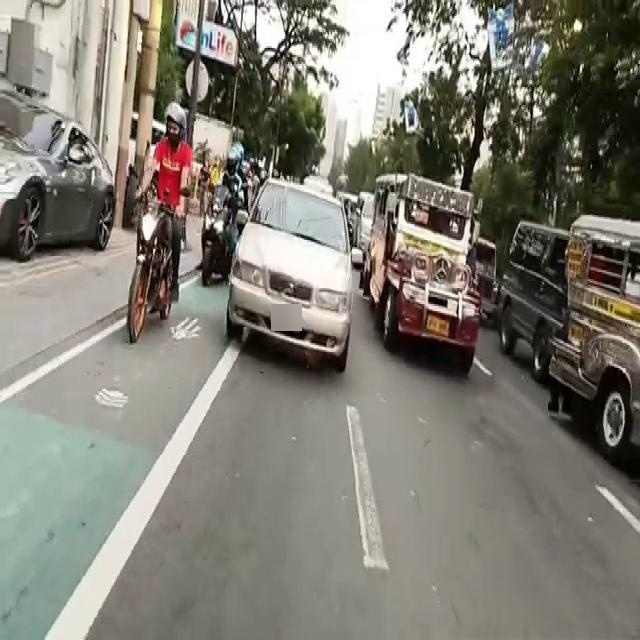car: (229, 186, 353, 364), (0, 111, 112, 260)
jeepney: (370, 170, 482, 358), (572, 204, 640, 462)
motorcycle: (139, 120, 191, 348), (199, 151, 241, 293)
